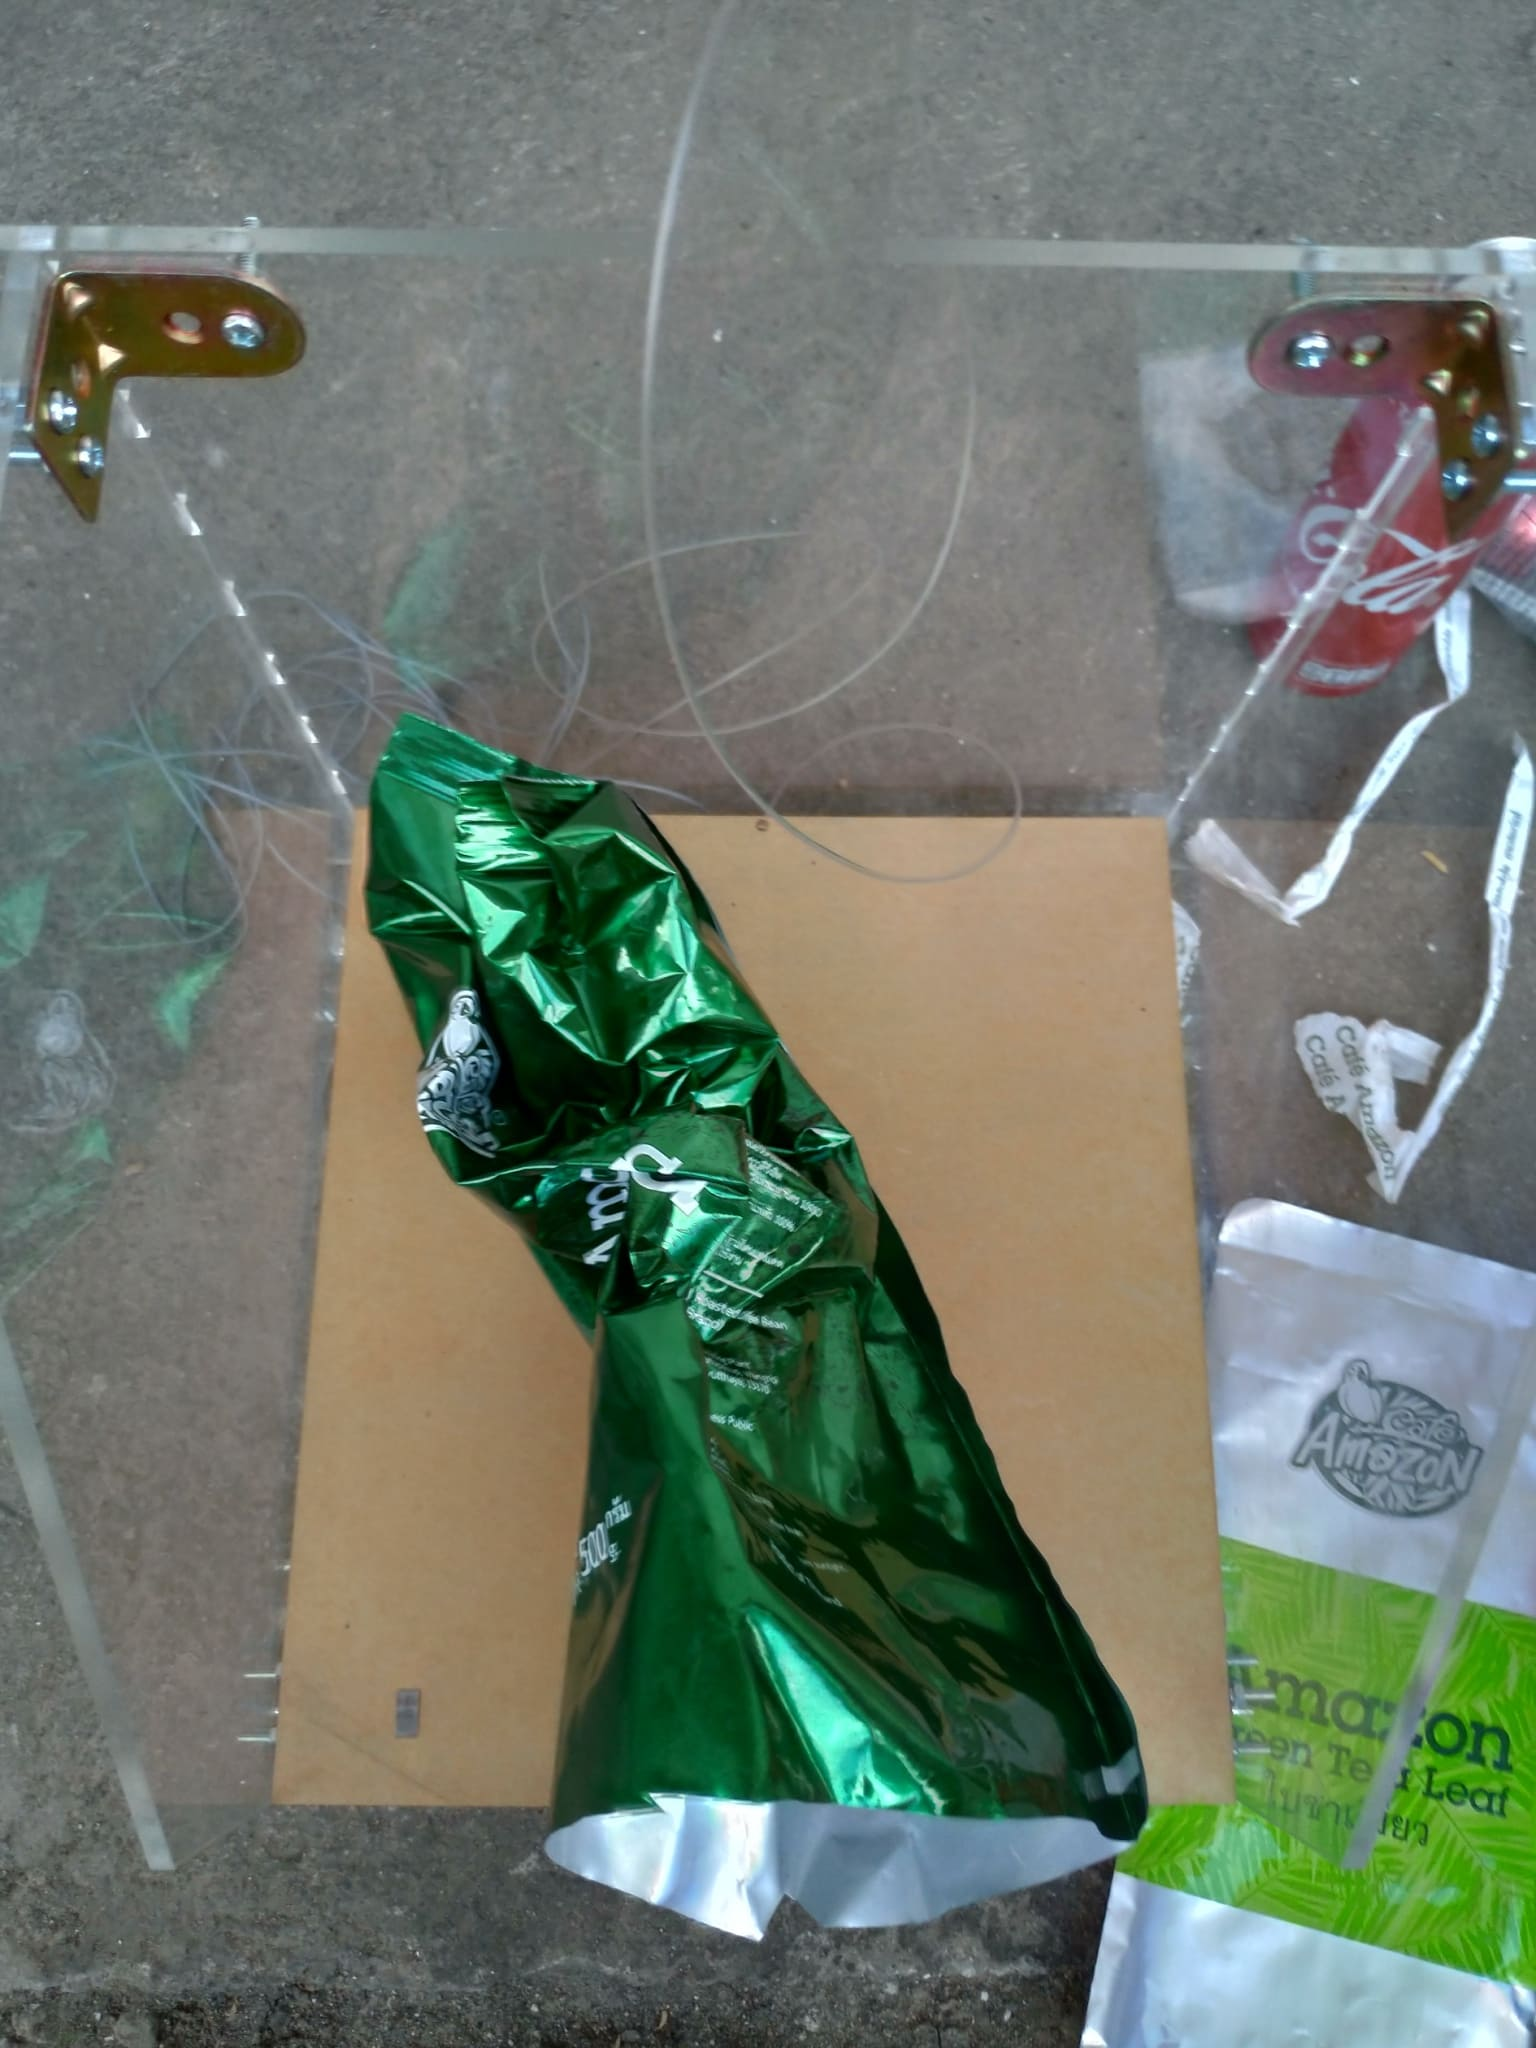AlCan: (1254, 248, 1536, 714)
Others: (357, 705, 1141, 1937), (1063, 1158, 1533, 2048)
